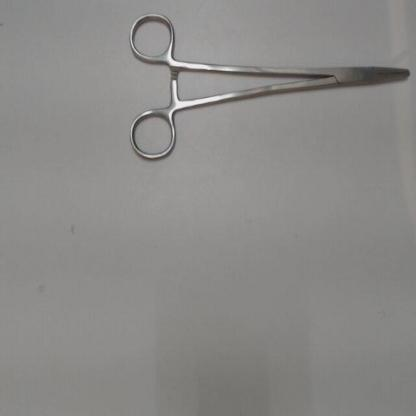8 Mayo Needle Holder: (117, 3, 415, 172)
